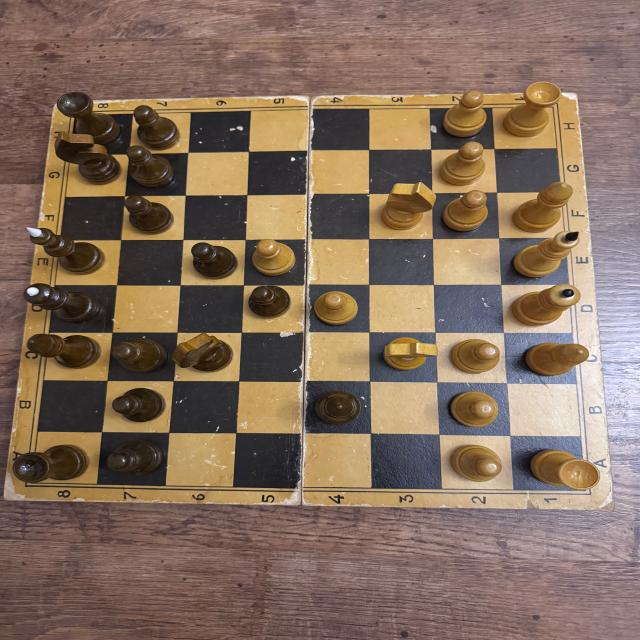black-bishop: (28, 331, 103, 371), (314, 388, 363, 425)
black-king: (23, 225, 107, 275)
black-knight: (54, 131, 121, 186), (173, 332, 235, 372)
black-pawn: (125, 145, 178, 188), (130, 106, 182, 148), (105, 439, 162, 475), (124, 195, 173, 235), (113, 337, 166, 373), (112, 387, 164, 422), (192, 242, 238, 280), (248, 285, 290, 318)
black-queen: (23, 282, 102, 324)
black-rook: (54, 91, 123, 144), (12, 443, 90, 482)
white-bishop: (512, 182, 572, 232), (524, 342, 588, 377)
white-king: (512, 232, 580, 278)
white-knight: (379, 182, 436, 230), (382, 336, 440, 372)
white-pawn: (443, 91, 488, 138), (451, 443, 503, 482), (440, 142, 487, 185), (442, 191, 490, 233), (448, 390, 500, 427), (451, 338, 499, 373), (253, 238, 296, 275), (314, 291, 358, 325)
white-queen: (512, 284, 580, 327)
white-rook: (503, 82, 560, 138), (529, 447, 600, 491)
